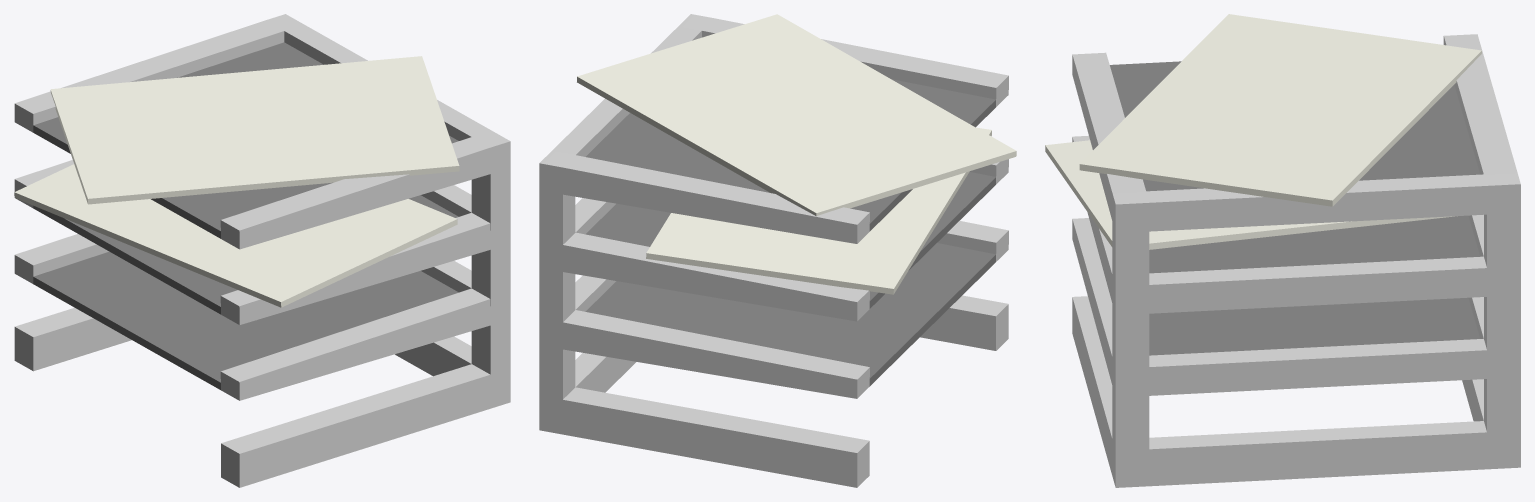
The model's file is FileCabinetTextured_v1.fbx.
The picture shows the model from 3 angles, left to right: view 1: azimuth 30°, elevation 25°; view 2: azimuth 150°, elevation 25°; view 3: azimuth 270°, elevation 25°; orthographic projection. The views are drawn at different scales.
Parts seen in each view (by area): view 1: polySurface4, polySurface1, polySurface3; view 2: polySurface4, polySurface1, polySurface3; view 3: polySurface4, polySurface1, polySurface3.
Part boxes in pixels (x1=…): polySurface4: x1=14, y1=14, x2=510, y2=487; polySurface1: x1=50, y1=56, x2=459, y2=204; polySurface3: x1=14, y1=164, x2=457, y2=307; polySurface4: x1=539, y1=14, x2=1008, y2=487; polySurface1: x1=577, y1=14, x2=1016, y2=216; polySurface3: x1=646, y1=127, x2=991, y2=294; polySurface4: x1=1072, y1=34, x2=1520, y2=487; polySurface1: x1=1079, y1=14, x2=1481, y2=206; polySurface3: x1=1045, y1=140, x2=1457, y2=249.
Size of the model in its own units: 1.76 by 1.19 by 1.75.
